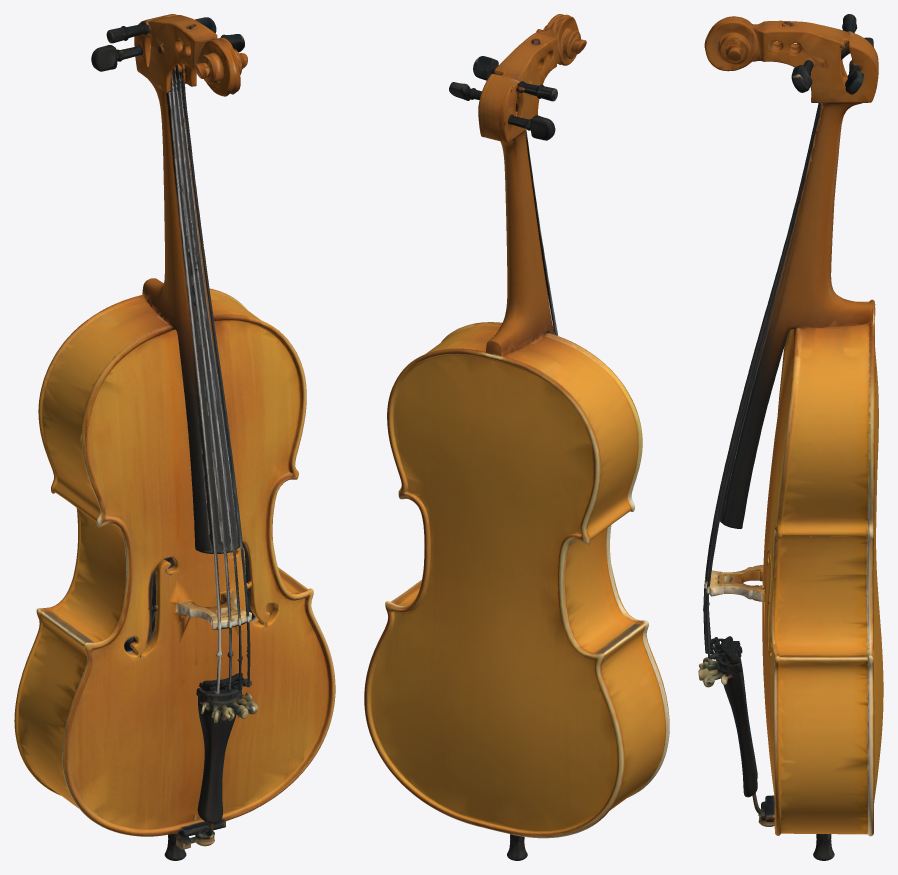
File: violoncelo.glb
The picture shows the model from 3 angles, left to right: view 1: azimuth 30°, elevation 25°; view 2: azimuth 150°, elevation 25°; view 3: azimuth 270°, elevation 25°; orthographic projection. The views are drawn at different scales.
Visible parts, largest first — view 1: tripo_node_f3e7ce50-8d6e-44b6-8a60-b6eaba245a60; view 2: tripo_node_f3e7ce50-8d6e-44b6-8a60-b6eaba245a60; view 3: tripo_node_f3e7ce50-8d6e-44b6-8a60-b6eaba245a60.
Boxes of the visible parts, left/top/right/bottom form: tripo_node_f3e7ce50-8d6e-44b6-8a60-b6eaba245a60: left=14, top=14, right=335, bottom=860; tripo_node_f3e7ce50-8d6e-44b6-8a60-b6eaba245a60: left=364, top=14, right=669, bottom=860; tripo_node_f3e7ce50-8d6e-44b6-8a60-b6eaba245a60: left=698, top=14, right=883, bottom=860.
Bounding box in the file's own units: 0.3295 × 0.9819 × 0.196.
Materials: 1 (1 with a texture image).
